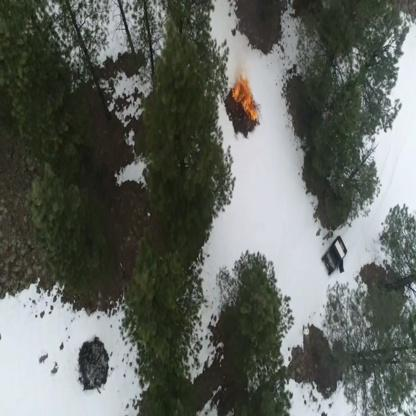Fire: (230, 71, 259, 122)
